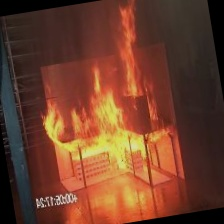fire: (26, 0, 193, 192)
